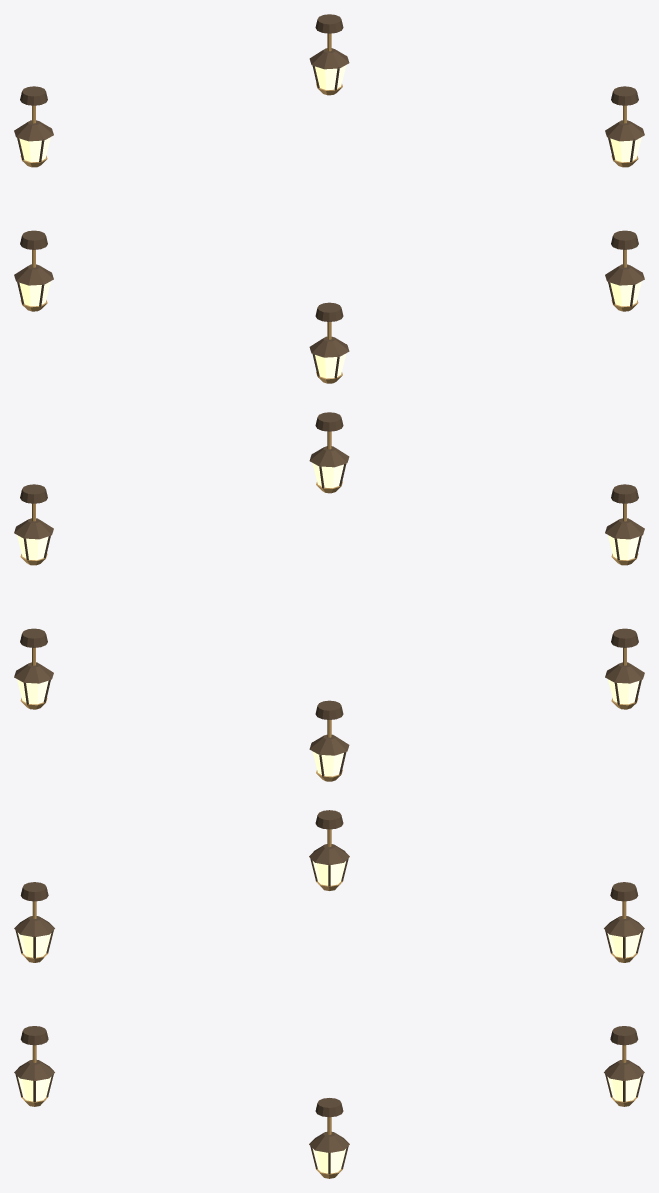
Rendered from carousel-beam-pendants.glb.
3 views of the same model, one above another, from view 1: azimuth 30°, elevation 25°; view 2: azimuth 150°, elevation 25°; view 3: azimuth 270°, elevation 25° (orthographic).
Visible parts, largest first — view 1: carousel-beam-pendants; view 2: carousel-beam-pendants; view 3: carousel-beam-pendants.
Part boxes in pixels (x1,y1,x2,y2): carousel-beam-pendants: (14,14,644,383); carousel-beam-pendants: (14,412,644,781); carousel-beam-pendants: (14,810,644,1178).
Bounding box in the file's own units: 5.41 × 0.602 × 4.73.
